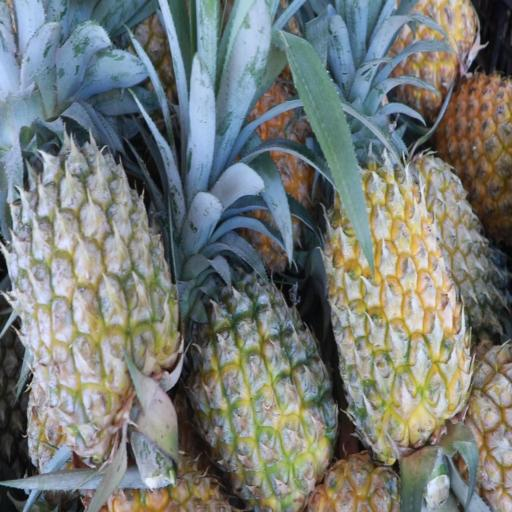------------------------------: (18, 144, 172, 434)
Pineapple - v8 v1: (326, 166, 464, 454), (198, 278, 333, 505), (435, 69, 512, 210), (392, 0, 481, 105)
